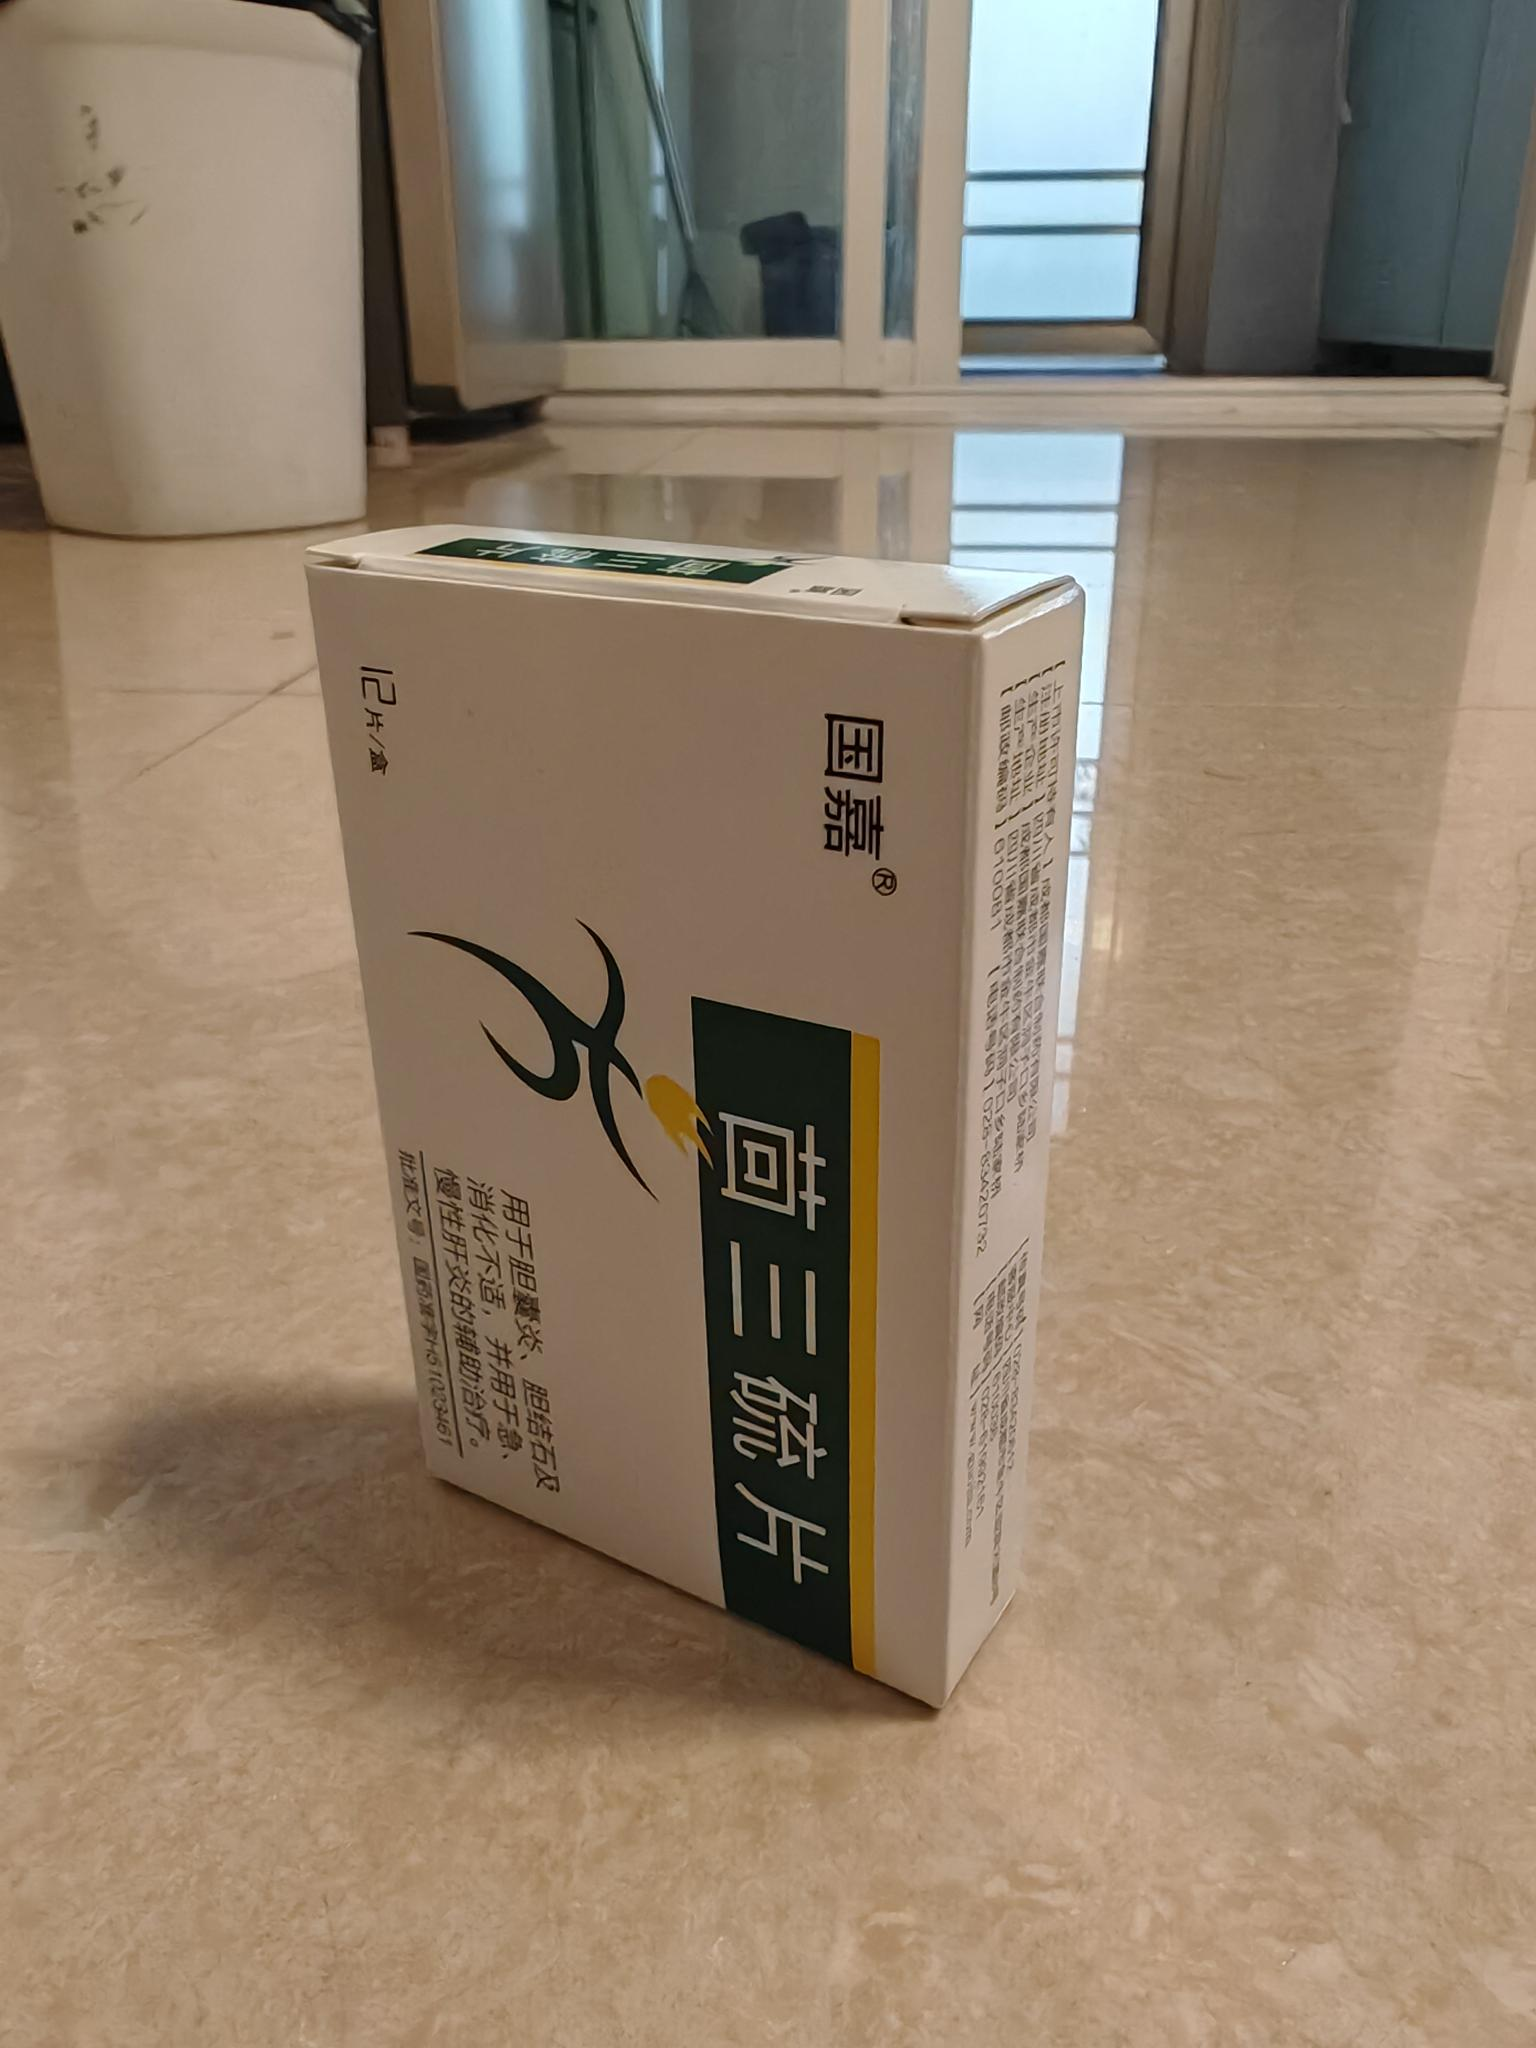Medicine4: (290, 503, 1100, 1727)
